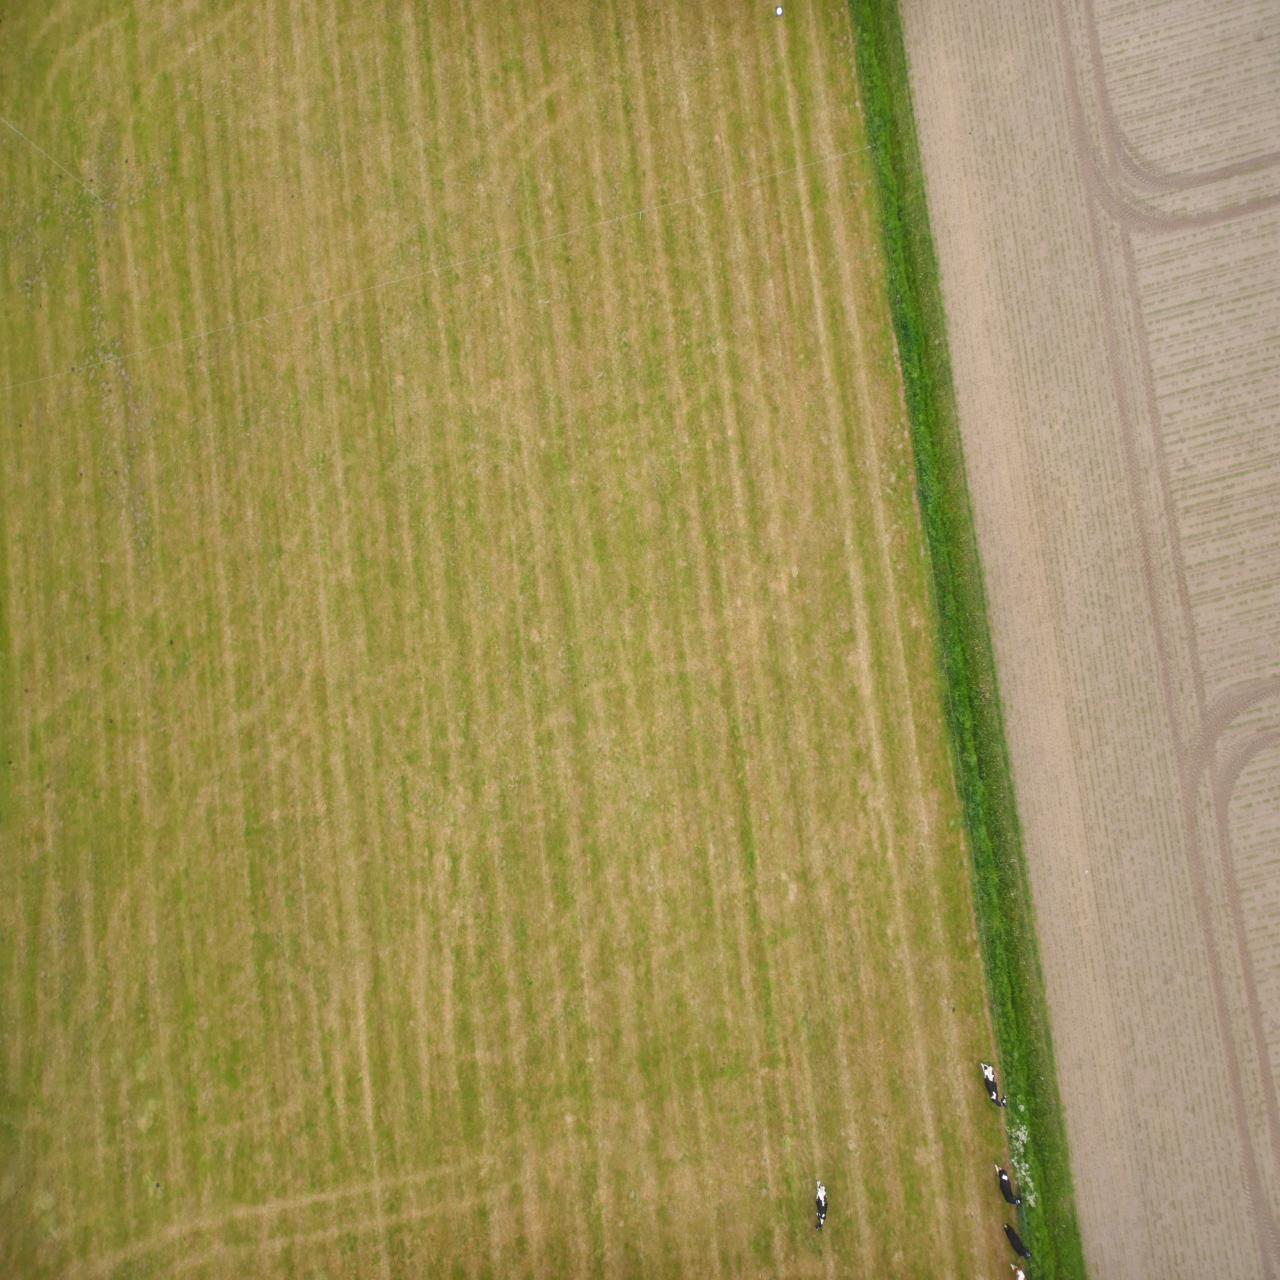cow: (272, 171, 300, 218), (258, 74, 286, 117), (247, 21, 278, 57), (452, 49, 464, 100)
